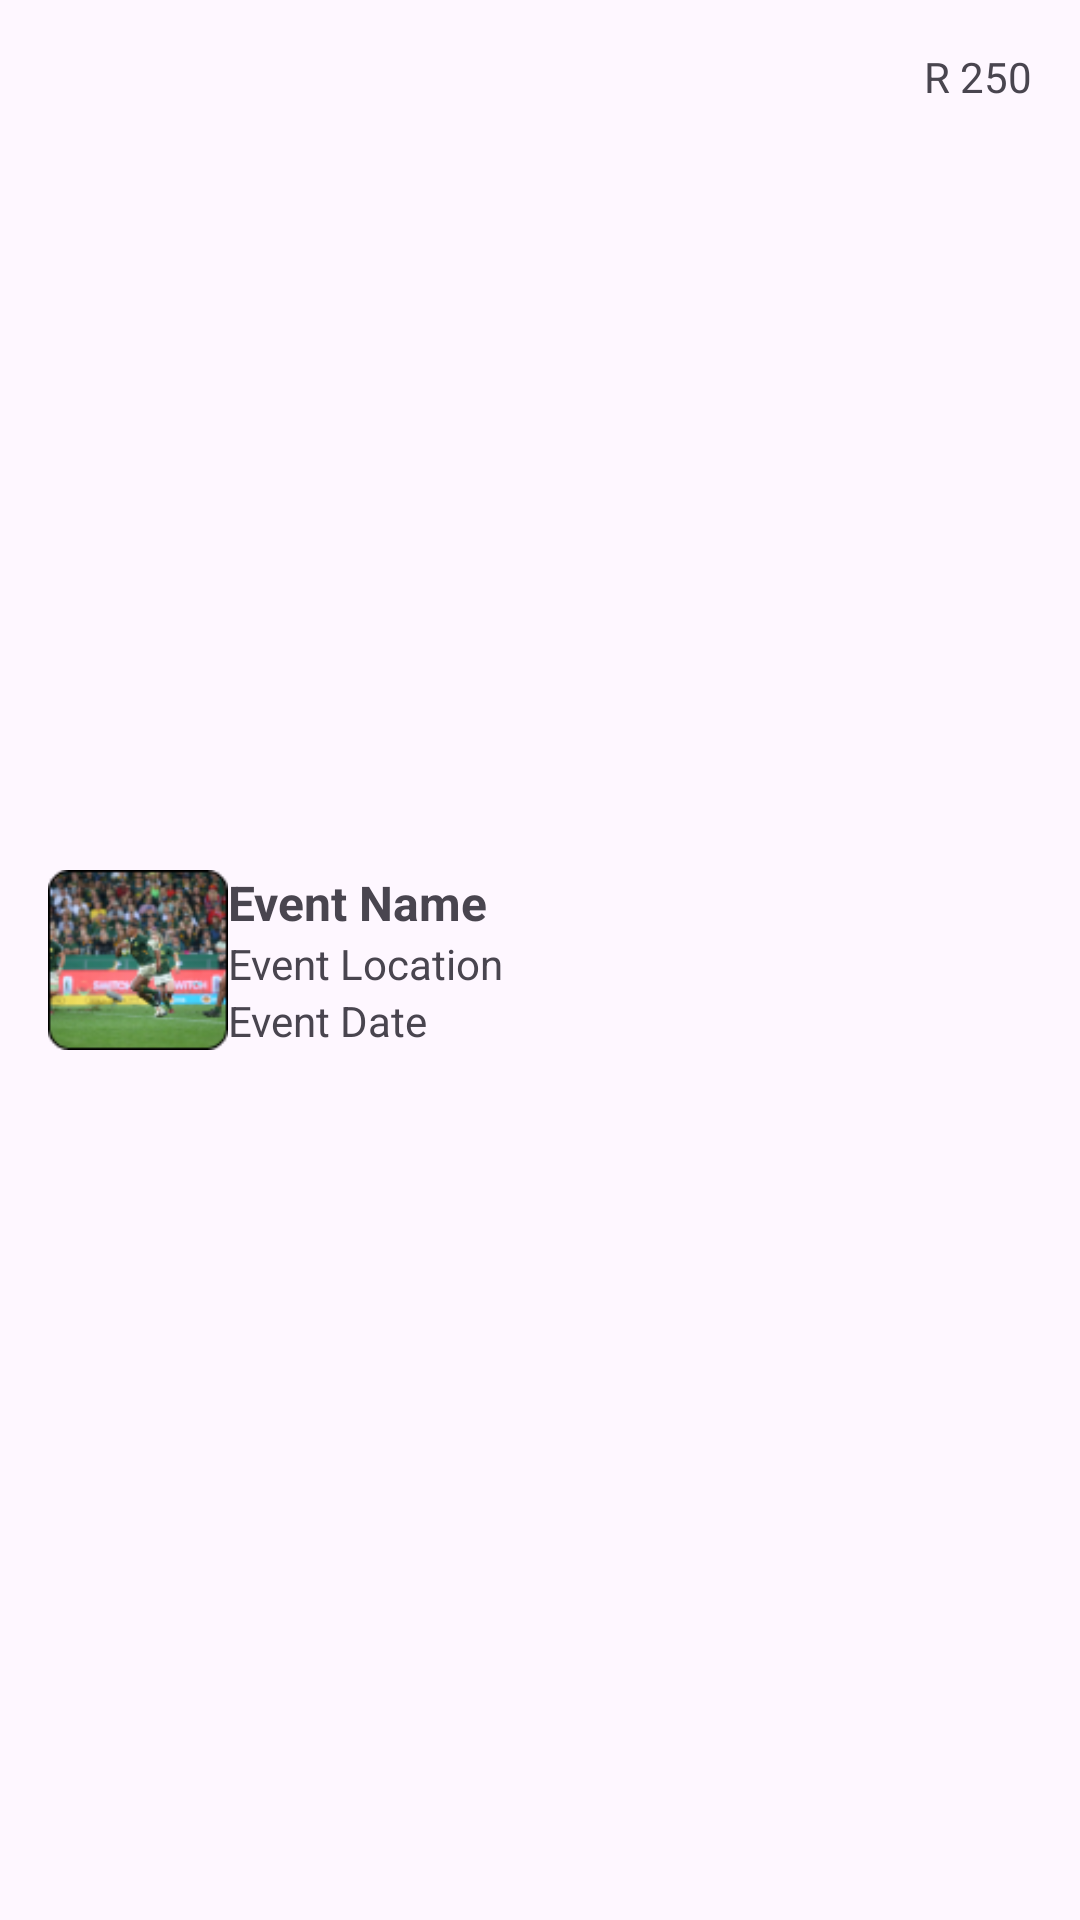

Locate icon controls on the screen. Image size 1080px×1920px, boxes as (x1, y1, x2, y2).
savedeventicon: (48, 870, 228, 1050)
